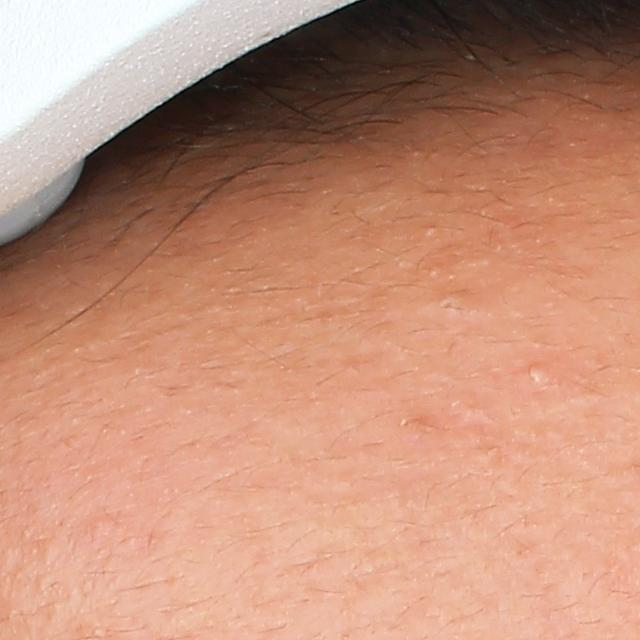comedo: (433, 289, 470, 325), (520, 362, 554, 398)
